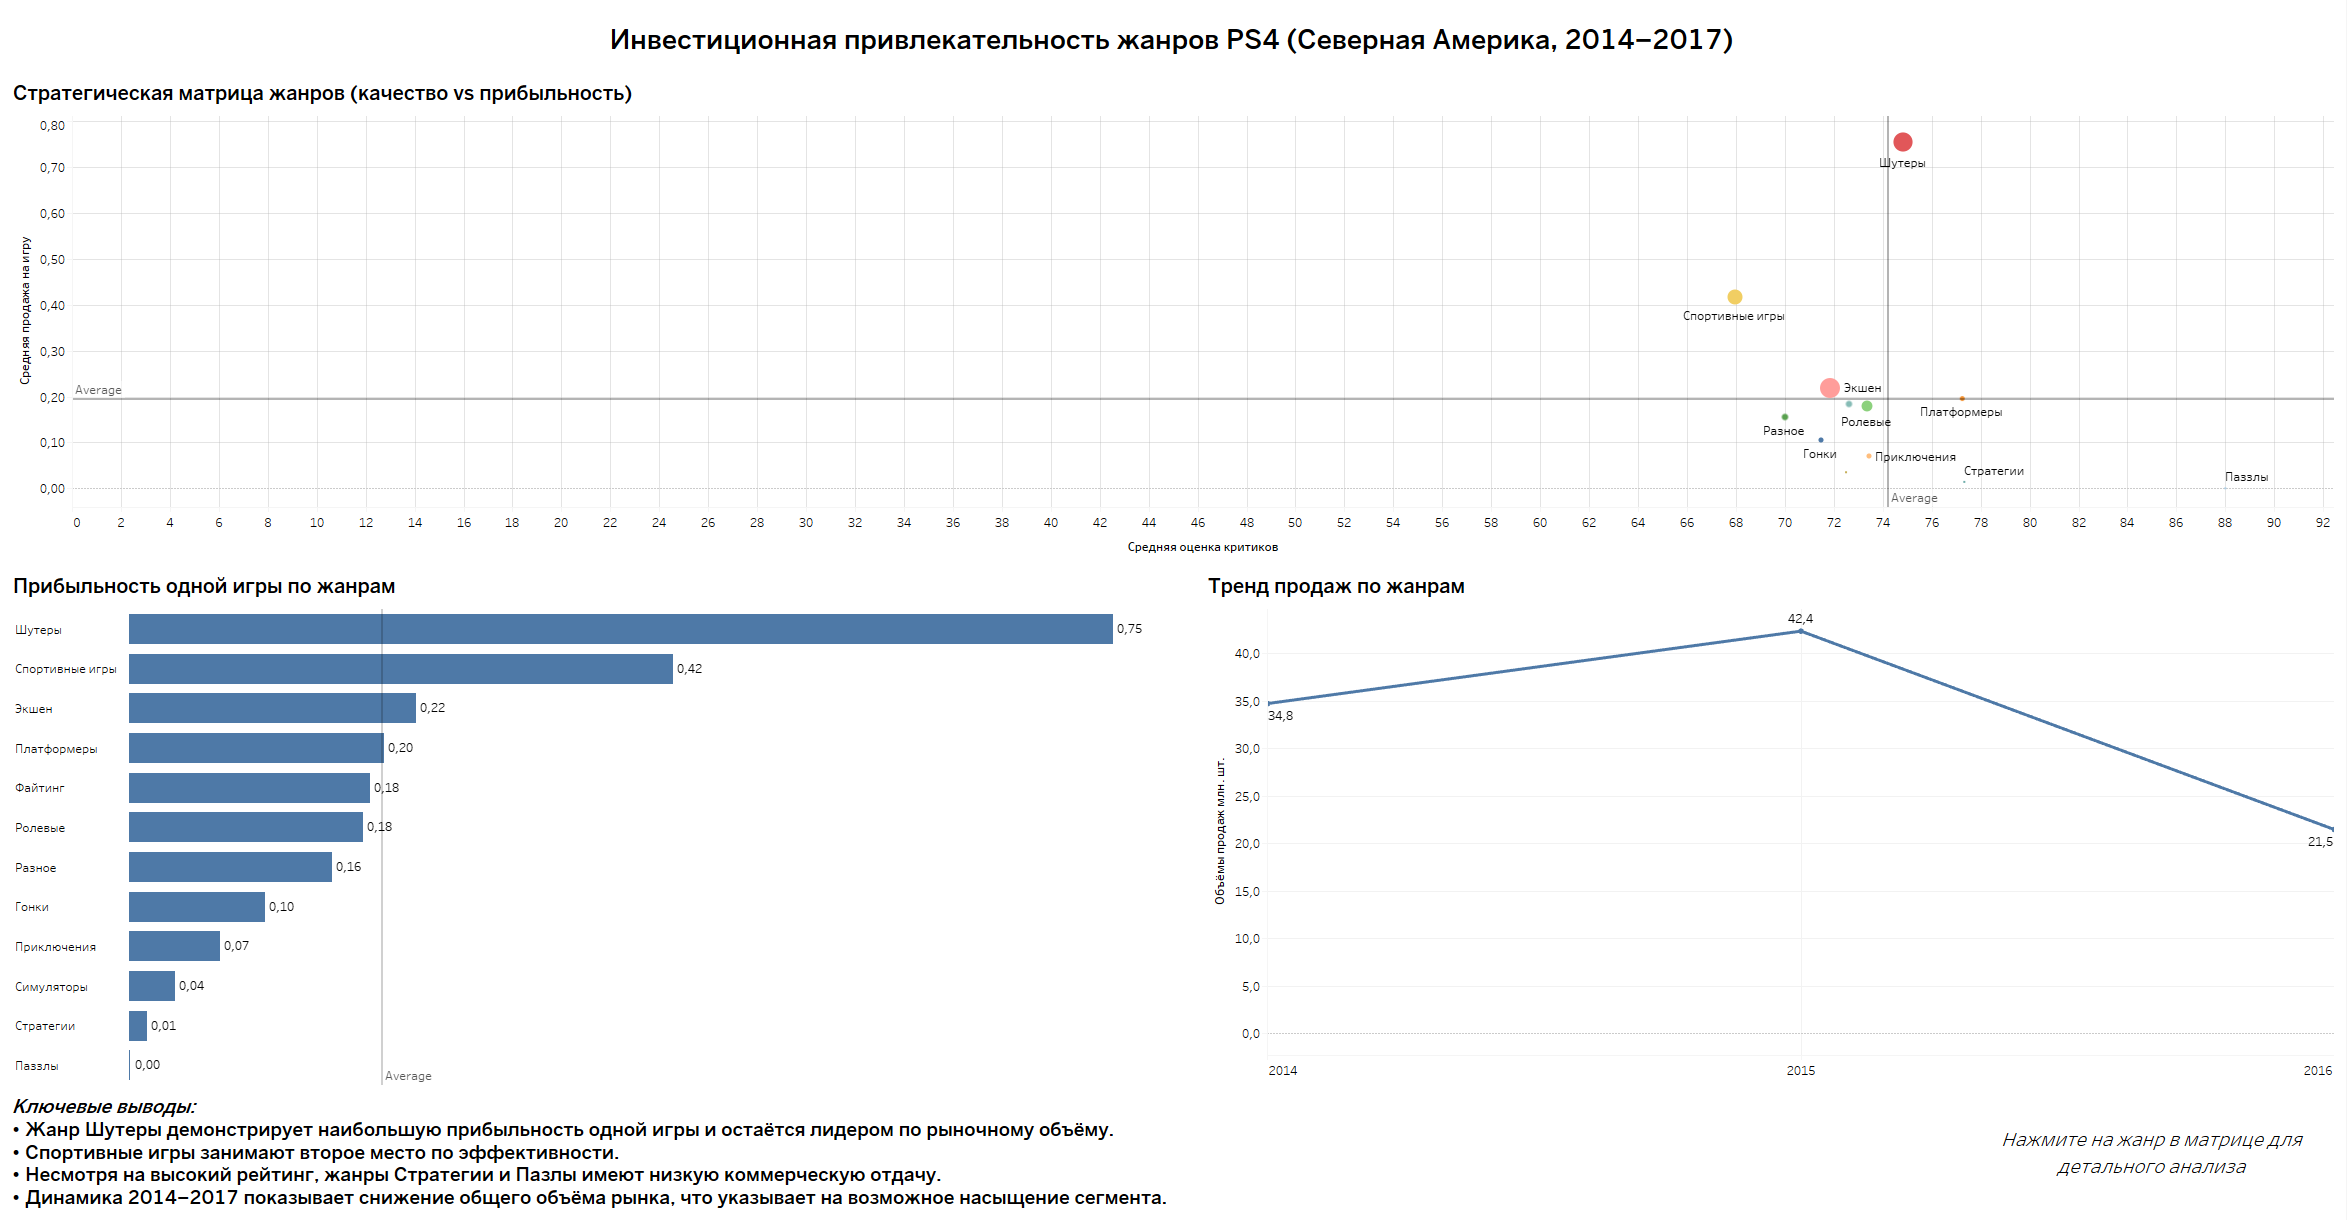

Layout of this report page (visuals, bound fields, positions):
{"tool":"tableau","page":{"name":"Инвестиционная привлекательность жанров PS4 (Северная Америка, 2014–2017)","canvas":[1000,1000],"units":"permille","ordinal":2},"visuals":[{"type":"text","box":[3.4,6.5,993.2,53.3]},{"type":"worksheet","title":"Стратегическая матрица жанров (качество vs прибыльность)","mark":"Circle","rows":["Calculation_820218121926619139"],"cols":["Оценка критиков"],"box":[3.4,59.8,993.2,402.8]},{"type":"worksheet","title":"Прибыльность одной игры по жанрам","mark":"Automatic","rows":["Жанр"],"cols":["Calculation_820218121926619139"],"box":[3.4,462.6,508.7,427]},{"type":"worksheet","title":"Тренд продаж по жанрам","mark":"Line","rows":["Объёмы продаж"],"cols":["Год релиза"],"box":[512.1,462.6,484.4,427]},{"type":"text","box":[3.4,889.7,834.8,103.8]},{"type":"text","box":[838.2,889.7,158.4,103.8]}]}

Visuals, with their boxes on the dashboard's canvas, which has no fixed pixel size, in thousandths of its width and height (x1, y1, x2, y2). These are canvas units, not pixel positions in the 2347x1220 screenshot, which may show the page scaled, cropped or inside an application window:
text: 3/6/997/60
"Стратегическая матрица жанров (качество vs прибыльность)" worksheet (Circle marks): 3/60/997/463
"Прибыльность одной игры по жанрам" worksheet: 3/463/512/890
"Тренд продаж по жанрам" worksheet (Line marks): 512/463/996/890
text: 3/890/838/994
text: 838/890/997/994
